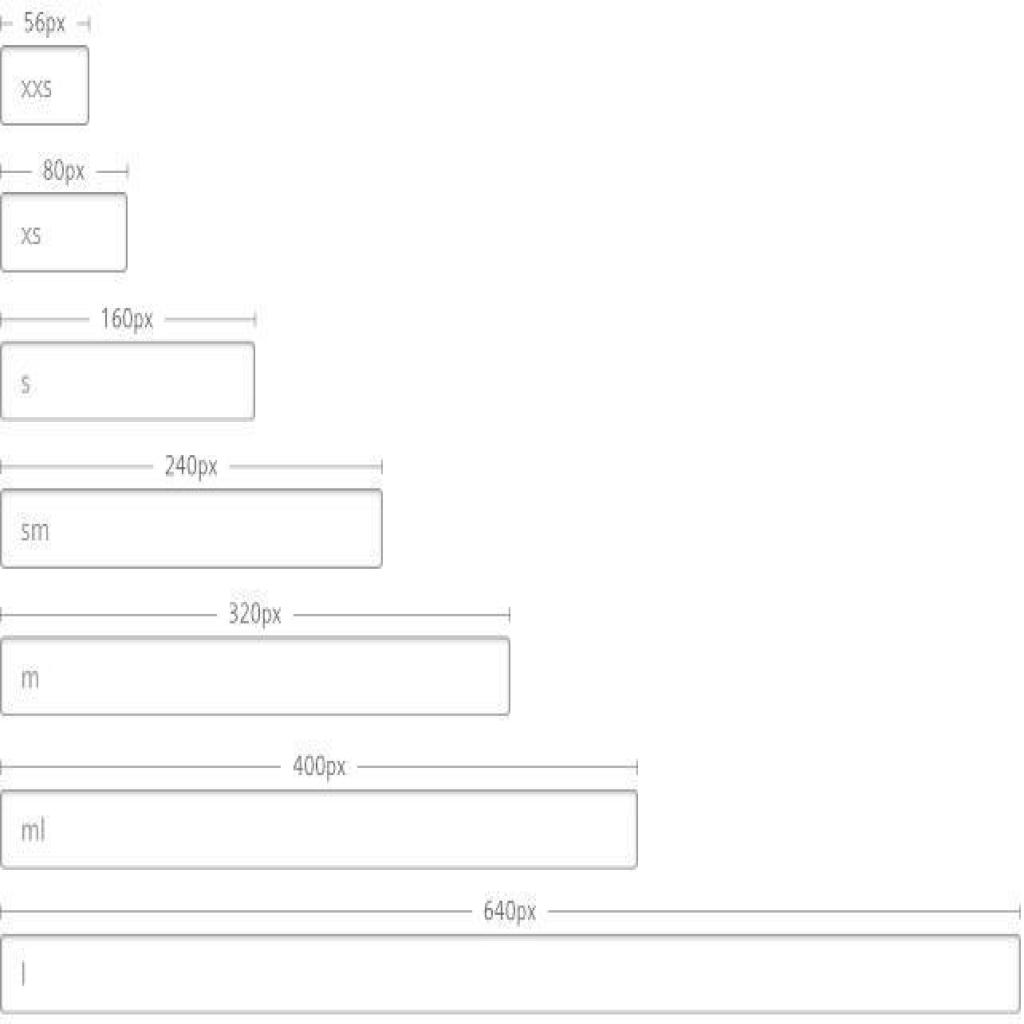input: (0, 934, 1021, 1014), (2, 790, 638, 866), (2, 636, 510, 714), (0, 488, 381, 569), (2, 342, 255, 420), (0, 192, 128, 270), (0, 45, 89, 125)
